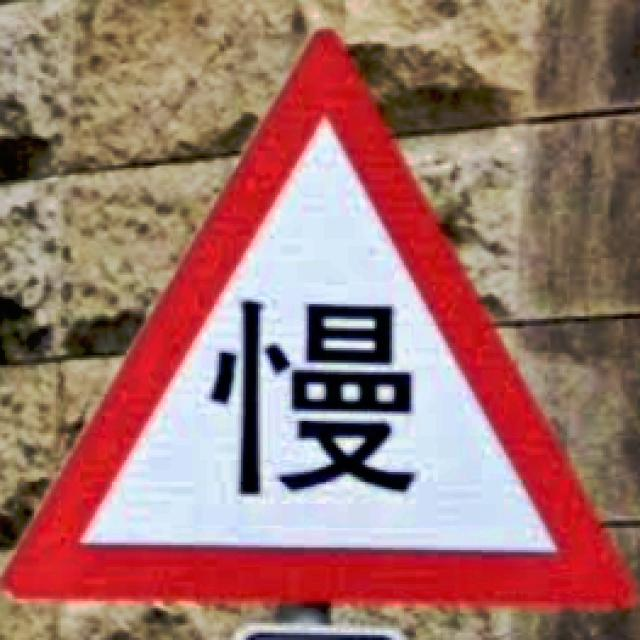slow: (0, 29, 635, 611)
